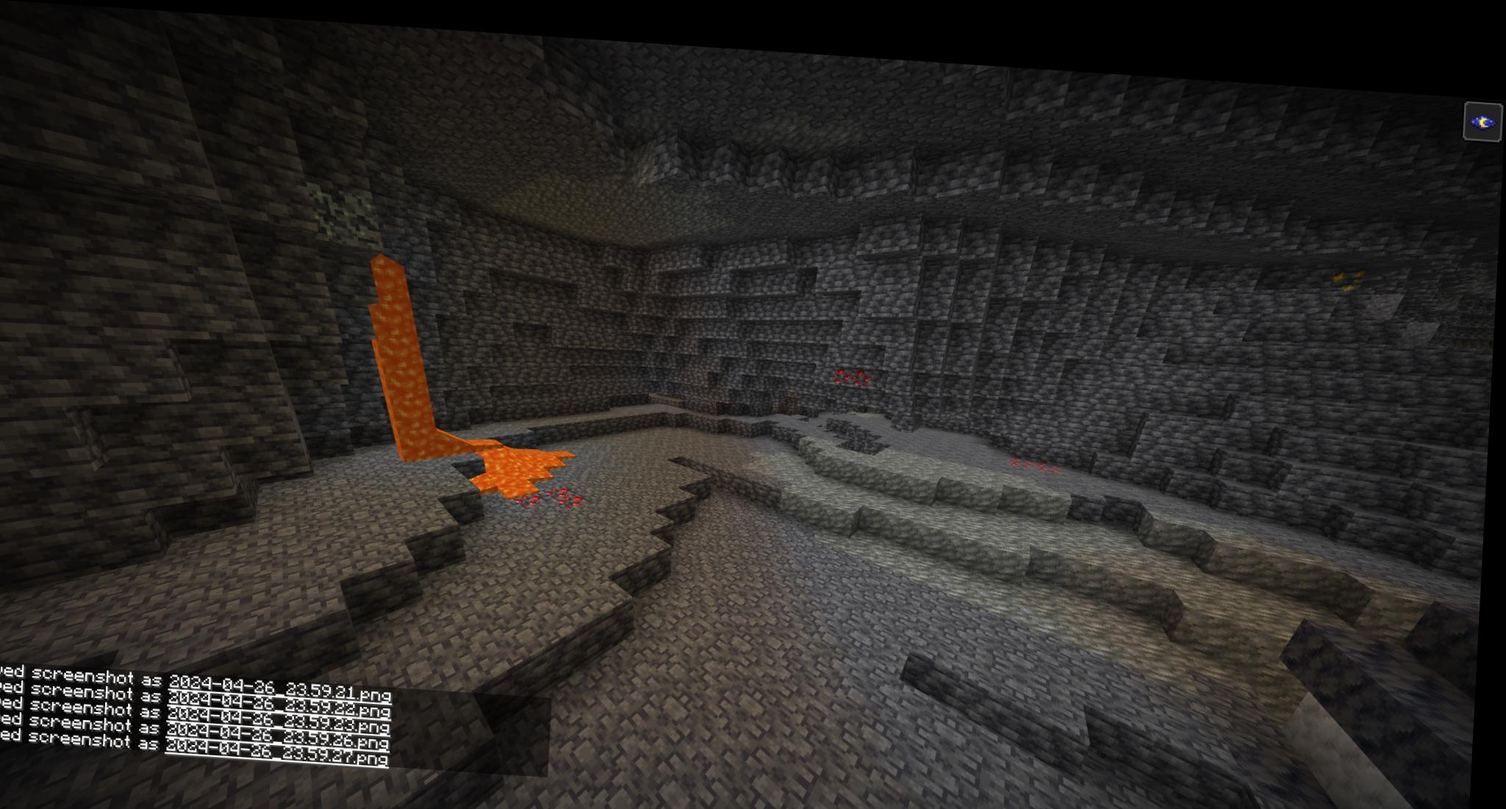gold ore: (1332, 243, 1365, 281)
redstone ore: (526, 479, 586, 507), (1013, 439, 1064, 460), (838, 352, 875, 377)
